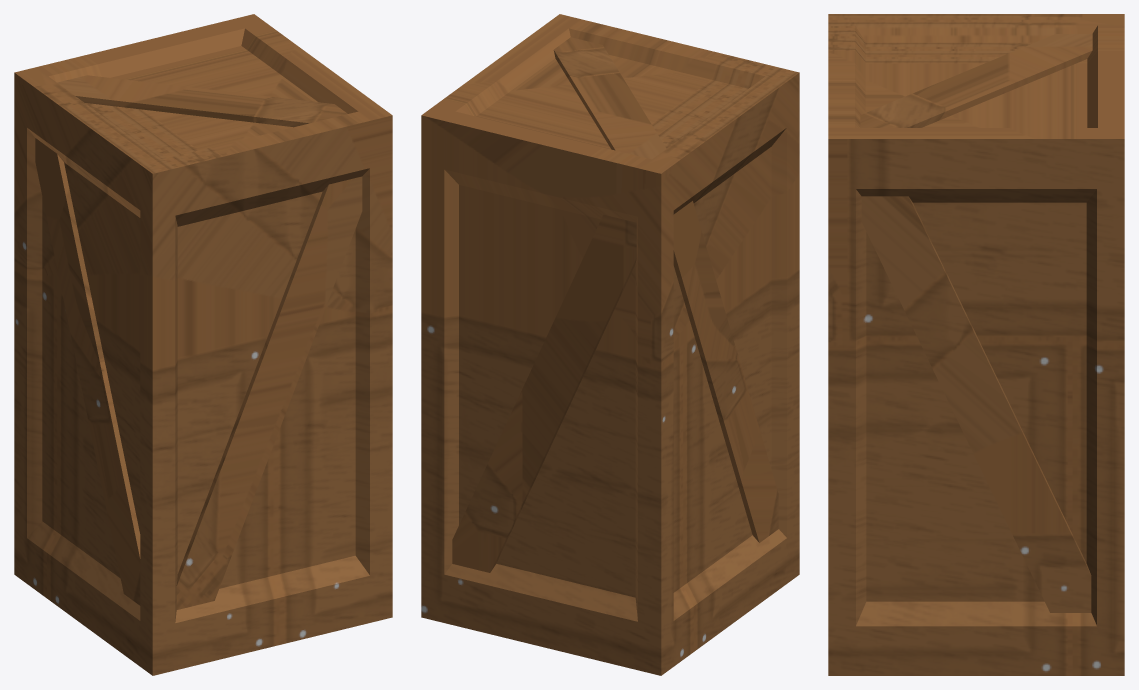
File: LongBox.FBX
The picture shows the model from 3 angles, left to right: view 1: azimuth 30°, elevation 25°; view 2: azimuth 150°, elevation 25°; view 3: azimuth 270°, elevation 25°; orthographic projection. The views are drawn at different scales.
Visible parts, largest first — view 1: LongBox; view 2: LongBox; view 3: LongBox.
Part boxes in pixels (x1,y1,x2,y2): LongBox: (14, 14, 392, 675); LongBox: (421, 14, 799, 675); LongBox: (828, 14, 1124, 675).
Size of what is drawn, in the model's own units: 1 by 1 by 2.
